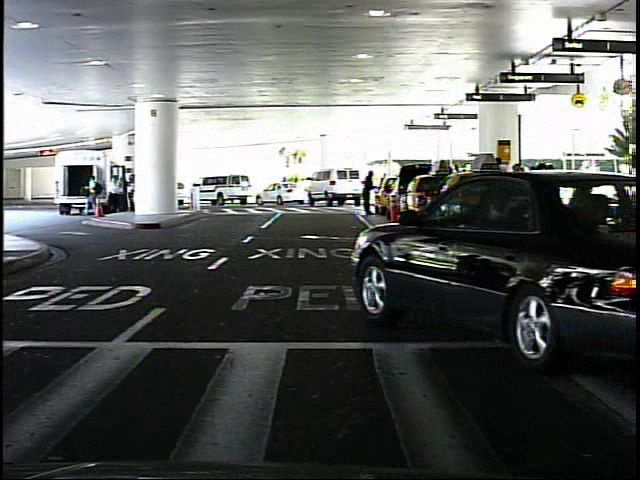person: (361, 164, 383, 220), (577, 165, 597, 223)
